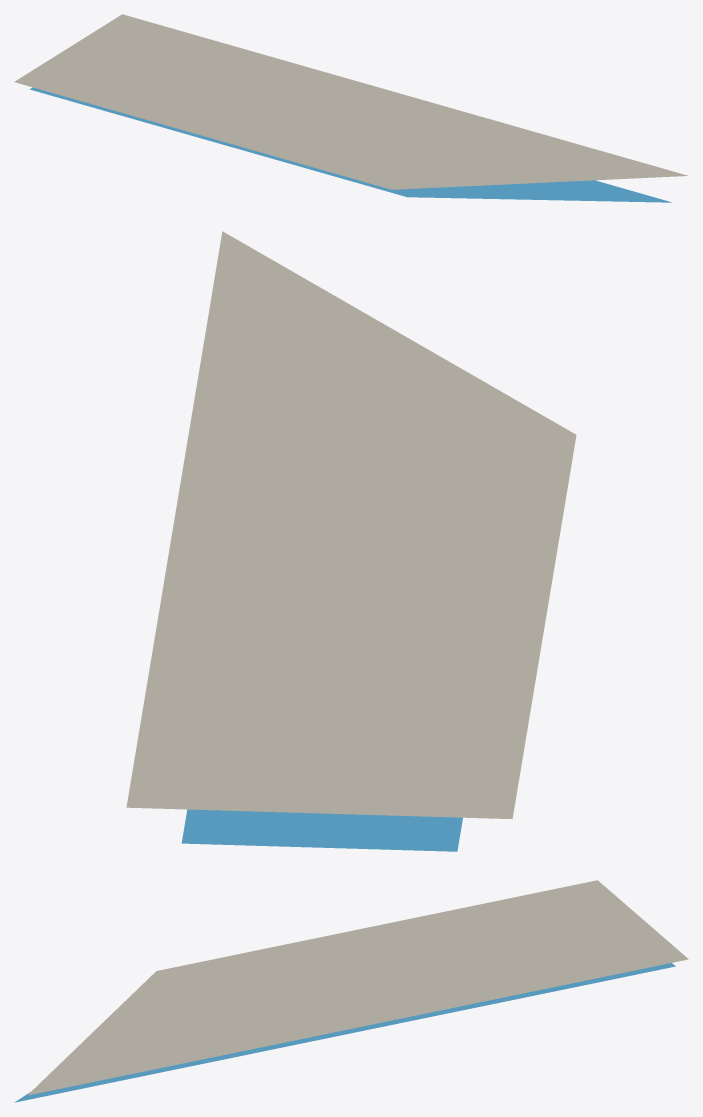
3 renders of one model, top to bottom at view 1: azimuth 30°, elevation 25°; view 2: azimuth 150°, elevation 25°; view 3: azimuth 270°, elevation 25°, orthographic. The views are drawn at different scales.
Parts seen in each view (by area): view 1: estructura_terreno, estructura_agua; view 2: estructura_terreno, estructura_agua; view 3: estructura_terreno, estructura_agua.
Boxes of the visible parts, left/top/right/bottom form: estructura_terreno: left=14, top=14, right=688, bottom=189; estructura_agua: left=30, top=87, right=672, bottom=202; estructura_terreno: left=126, top=231, right=576, bottom=819; estructura_agua: left=181, top=809, right=462, bottom=851; estructura_terreno: left=27, top=880, right=688, bottom=1095; estructura_agua: left=14, top=963, right=675, bottom=1102.
Size of the model in its own units: 10.28 by 0.41 by 13.6.
